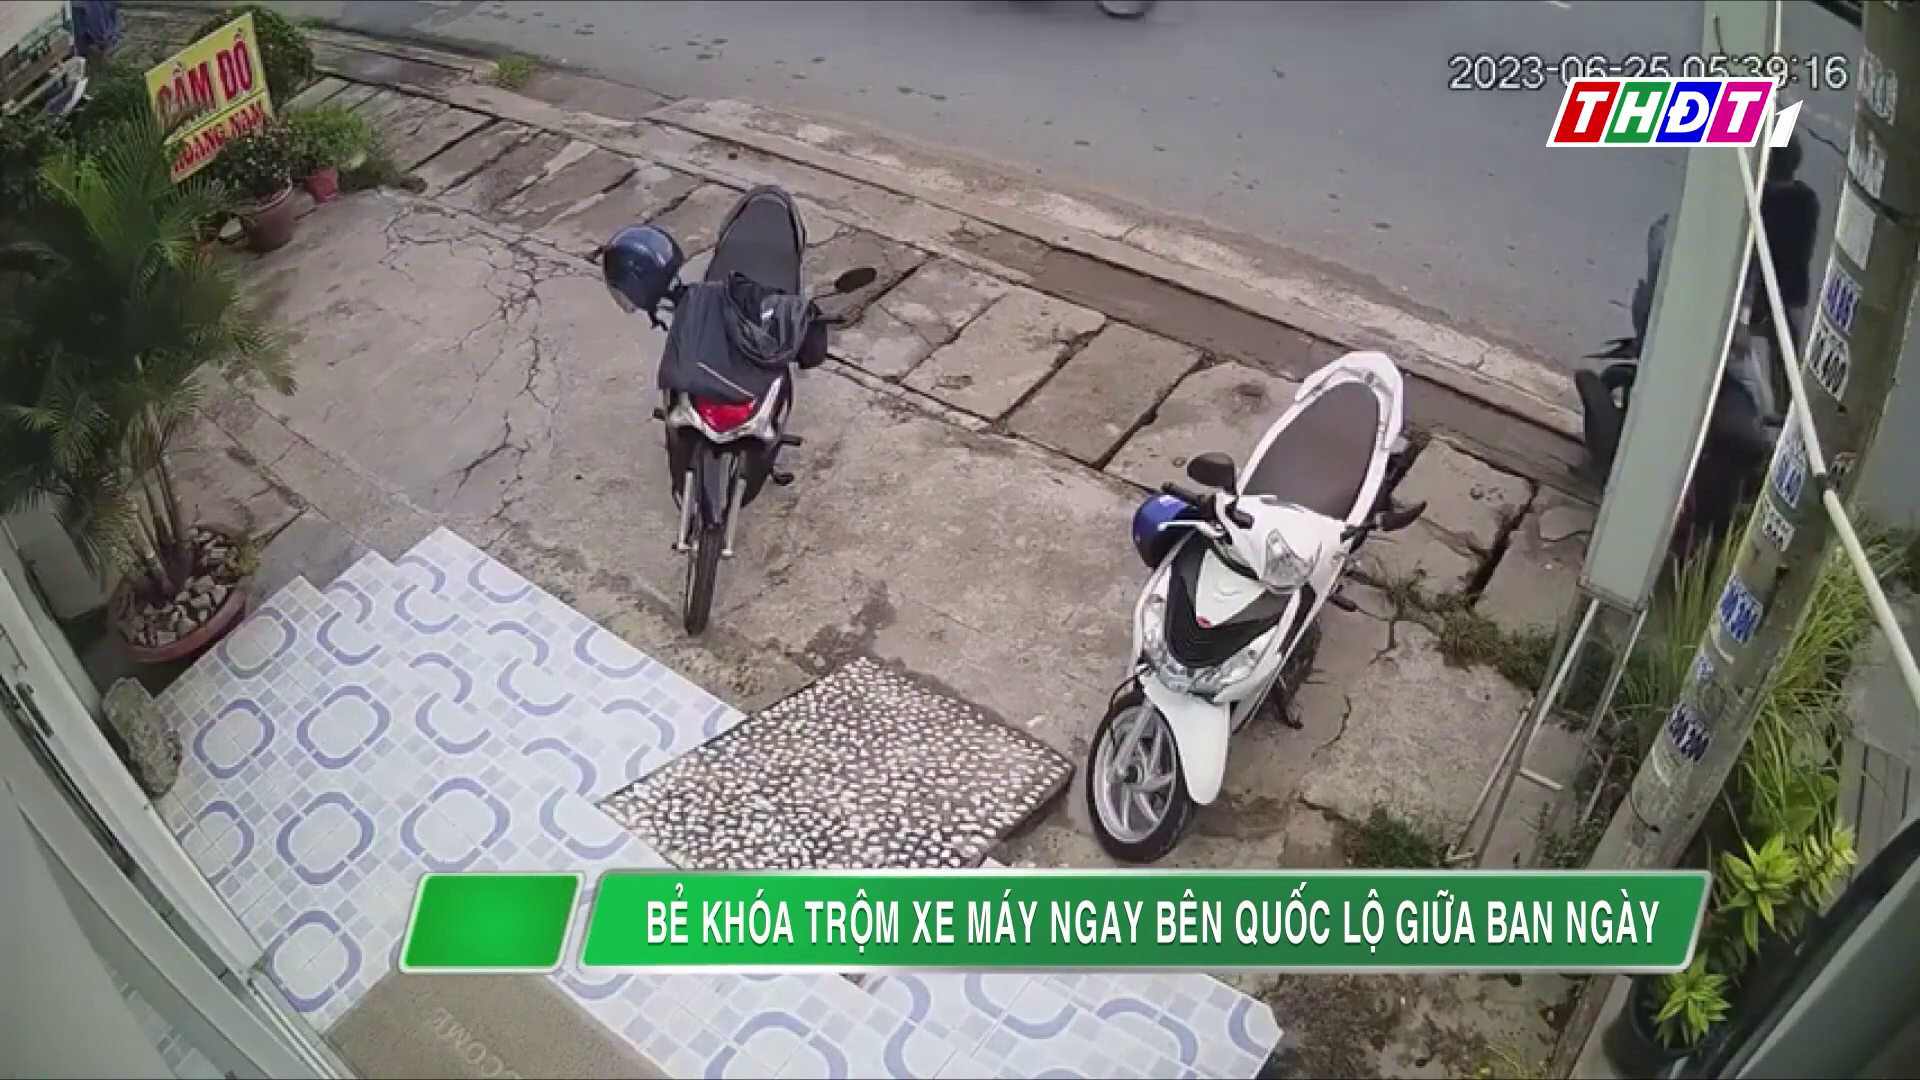Motorcycle: (1084, 348, 1428, 865), (597, 181, 880, 636)
